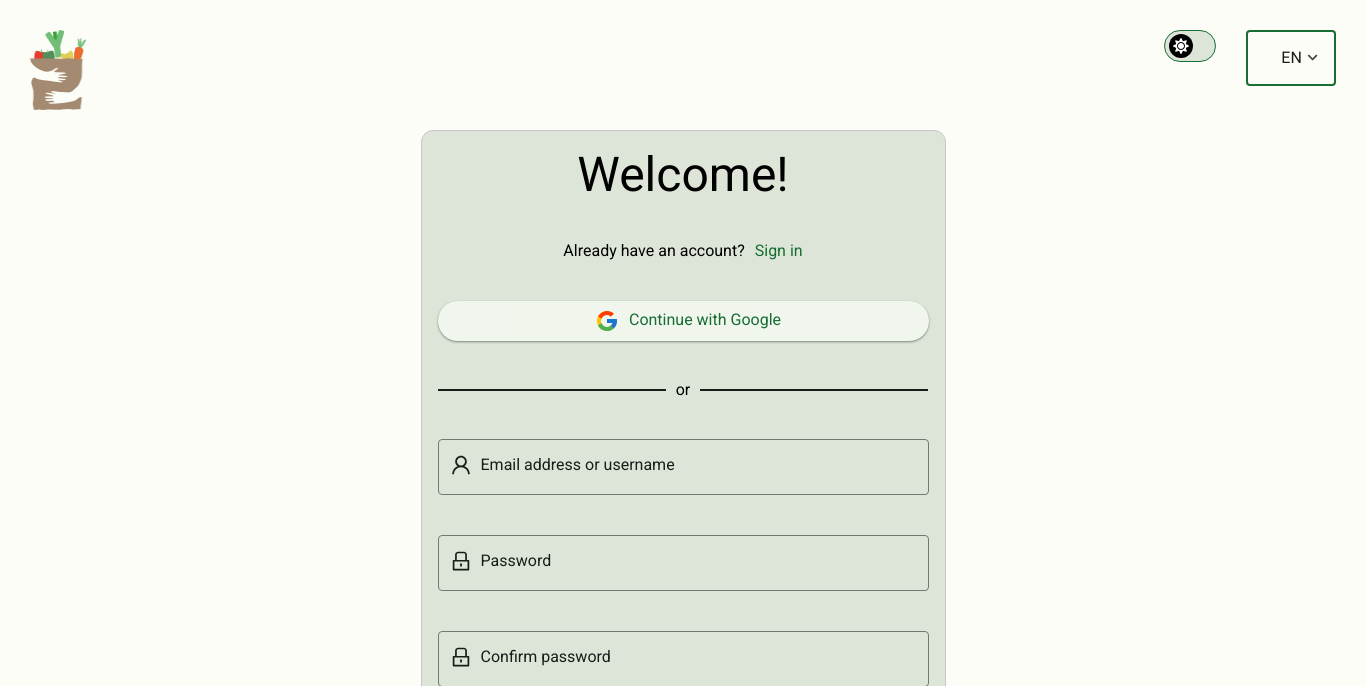
Scenario: navigates from signup to homepage
The width and height of the screenshot is (1366, 686).
Click the picture with test id "logo".
click(58, 70)  # box [30,30,86,110]
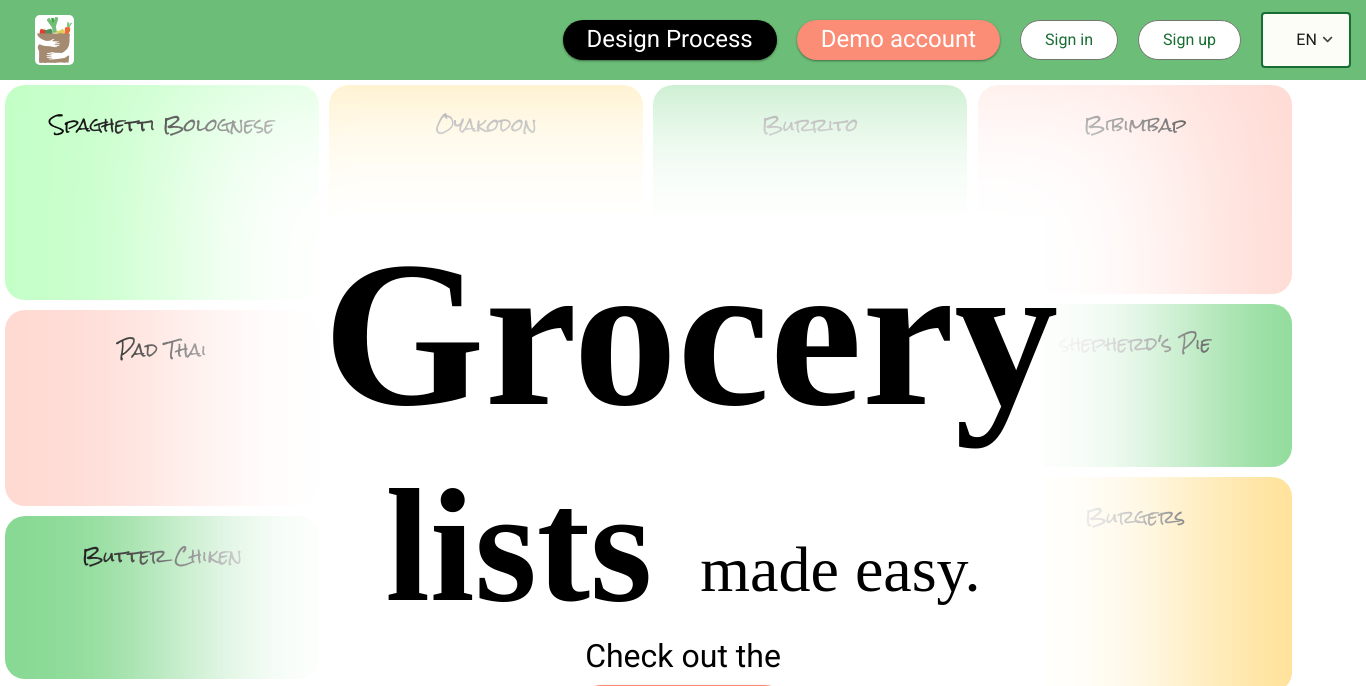
Now the text "made easy." is shown, box [652,533,980,638]
